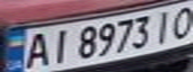3: (130, 12, 157, 50)
7: (112, 17, 136, 53)
8: (75, 22, 100, 60)
9: (93, 20, 118, 57)
A: (18, 29, 54, 70)
I: (45, 26, 72, 65), (151, 7, 178, 42)
O: (166, 2, 193, 39)
